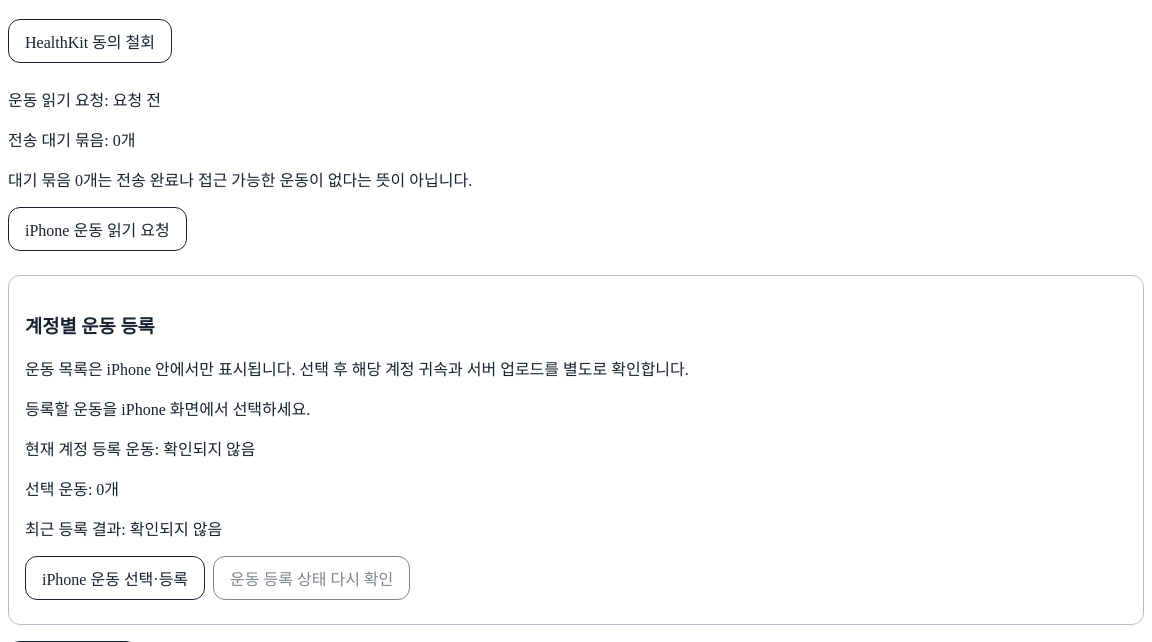
native workout selection account UI › renders native registered without exposing candidate data or claiming read permission
The width and height of the screenshot is (1152, 642).
(page scrolled)
Click the button "iPhone 운동 선택·등록" at [115, 578], box [25,556,205,600]
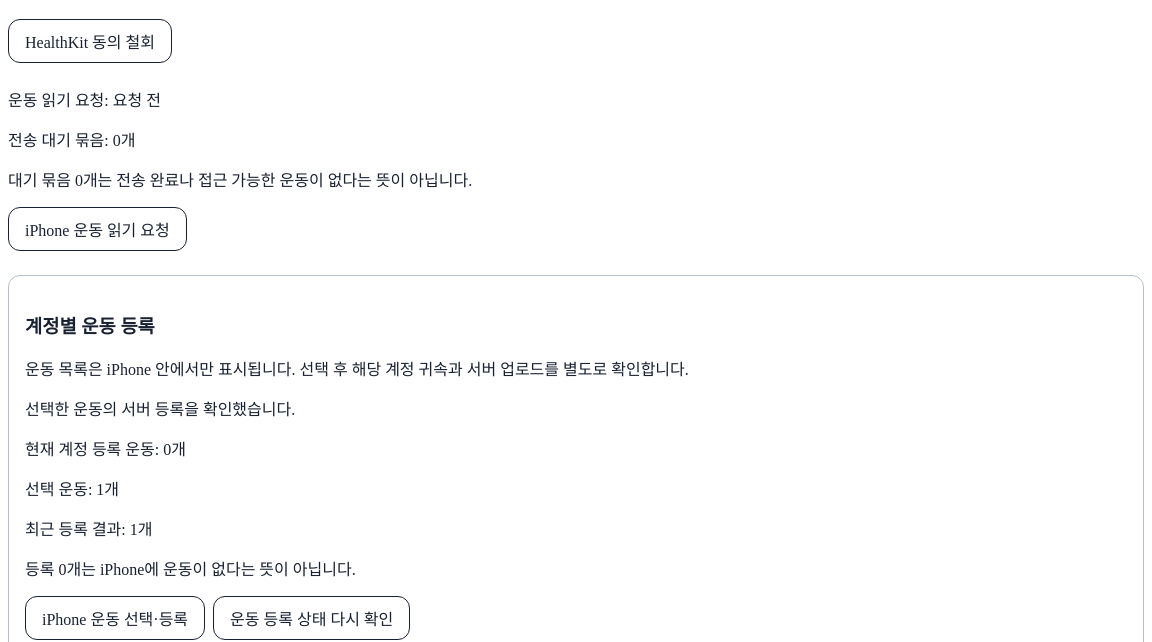
expect the text "선택 운동: 1개" is shown: met, box [25,481,119,498]
expect the text "등록 0개는 iPhone에 운동이 없다는 뜻이 아닙니다." is shown: met, box [25,561,356,578]
expect the text "최근 등록 결과: 1개" is shown: met, box [25,521,152,538]
